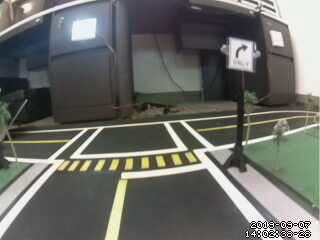Right_only_sign: (229, 35, 257, 76)
